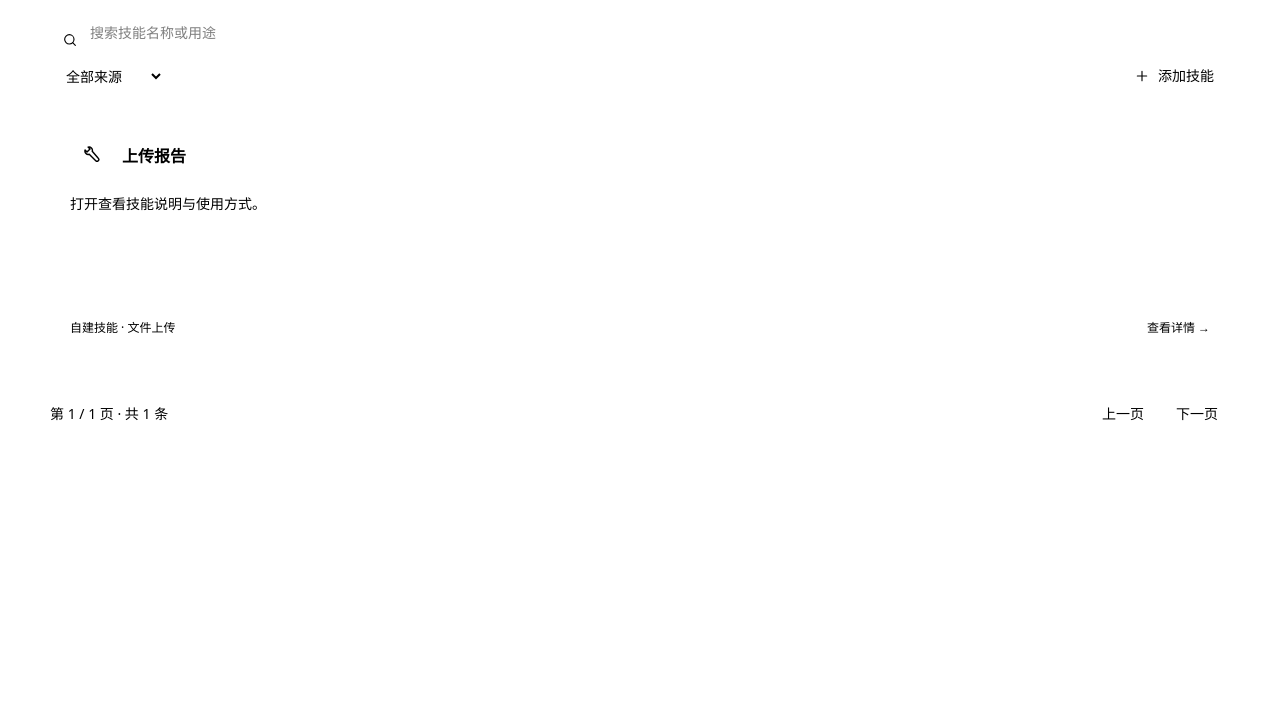
it: catalog import requires confirmation and resets library filters to the new source
Check: the heading "上传报告" is shown, box left=122, top=145, right=186, bottom=167
Select "自建技能" in the dropdown named "筛选技能来源" at (107, 76), box left=50, top=66, right=164, bottom=86
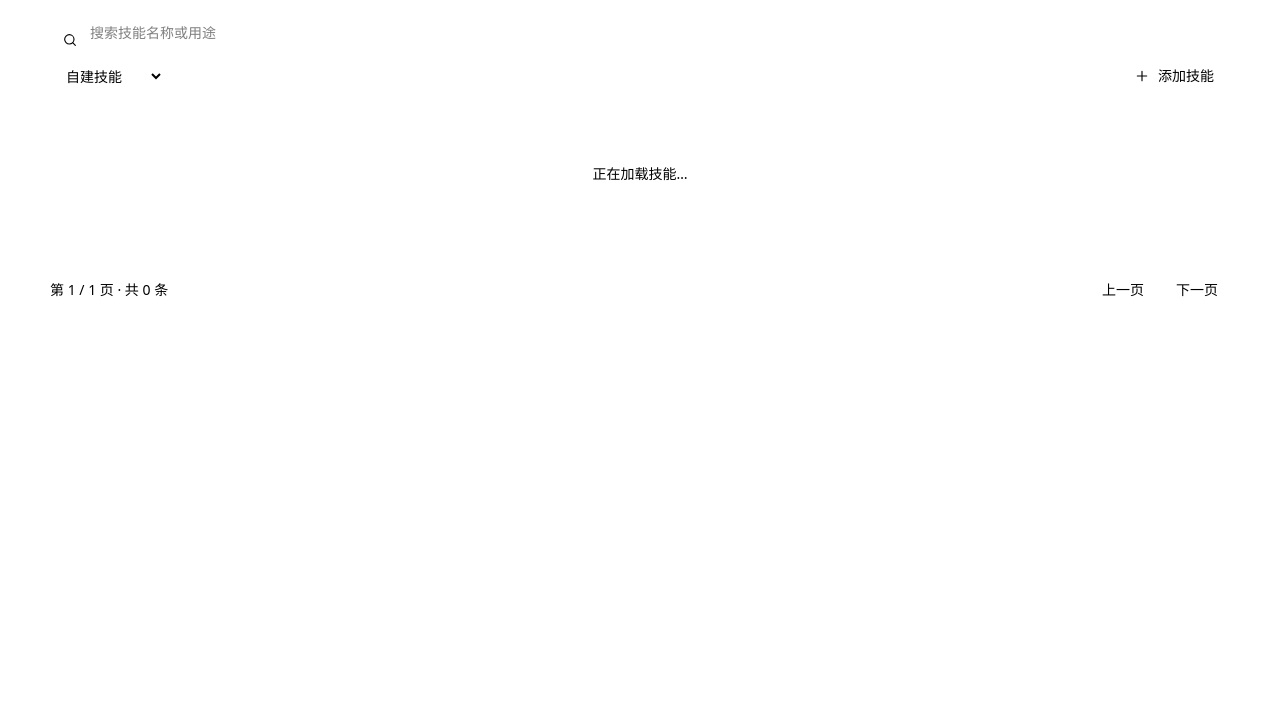
Type "上传报告" into the field named "搜索技能库" at (640, 33), box left=50, top=23, right=1230, bottom=43
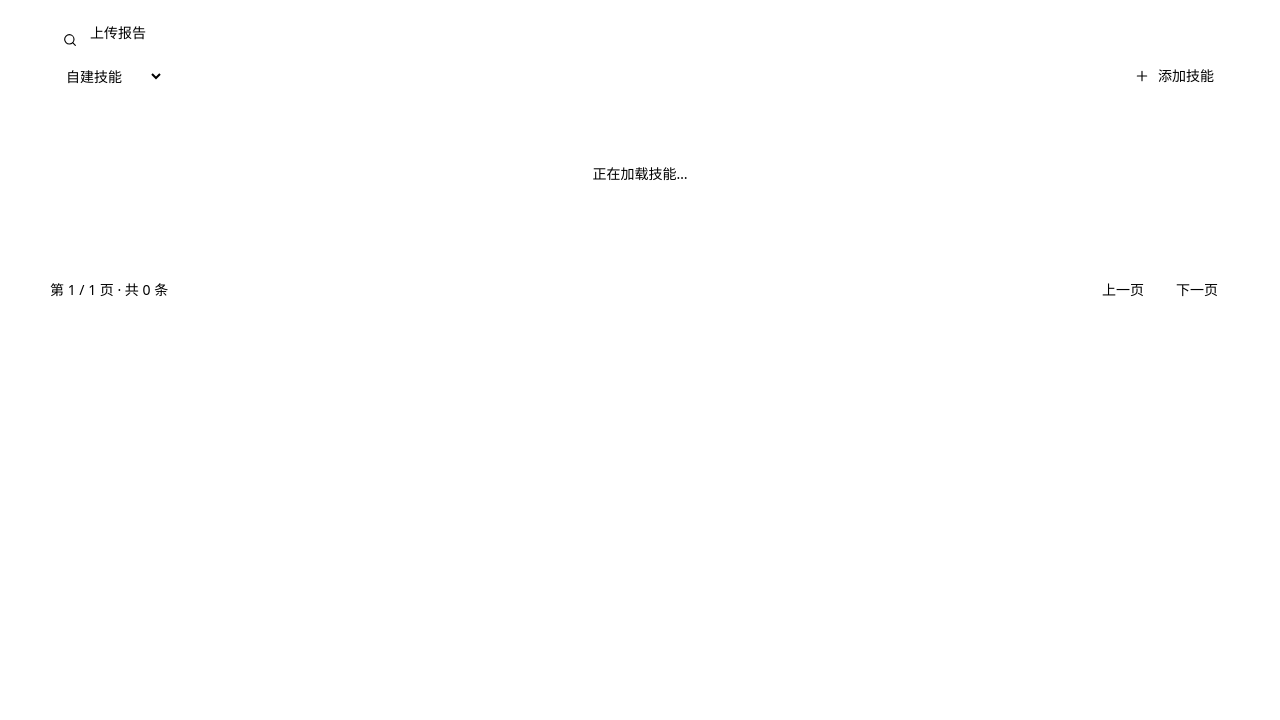
Click the button "添加技能" at (1174, 76), box left=1118, top=56, right=1230, bottom=96
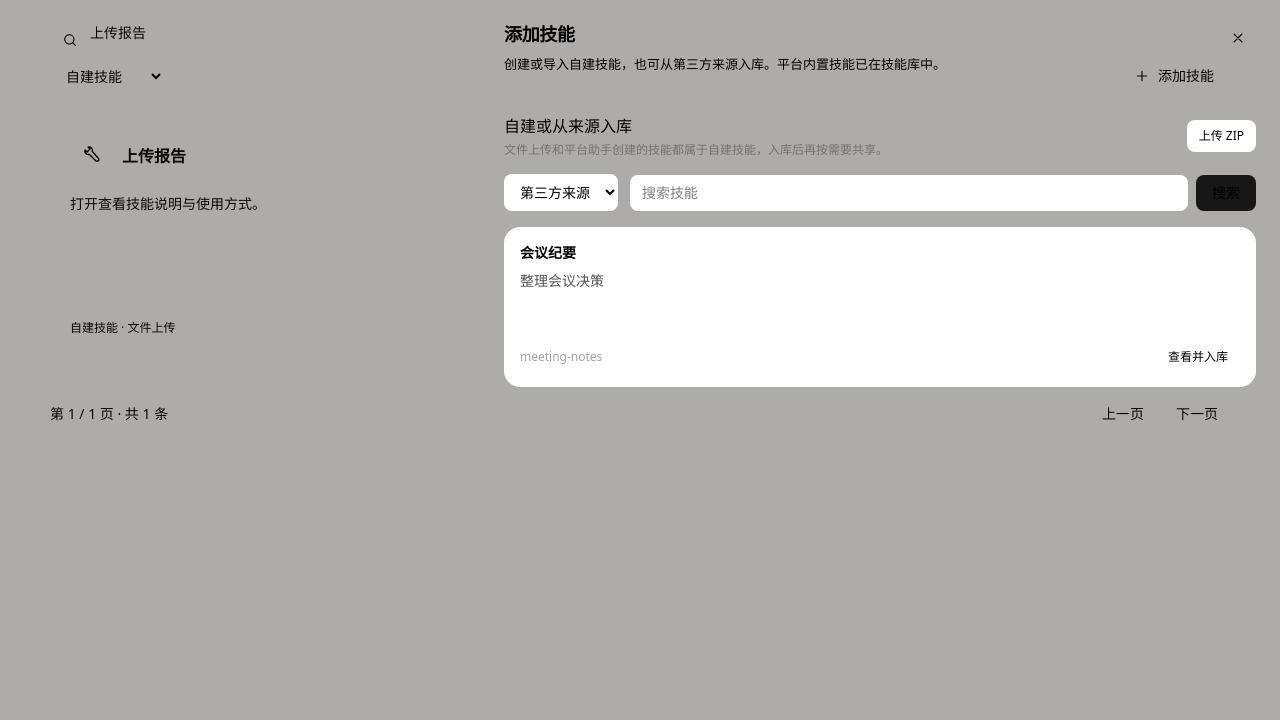
Click the button "查看并入库" at (1198, 357), box left=1156, top=343, right=1240, bottom=371
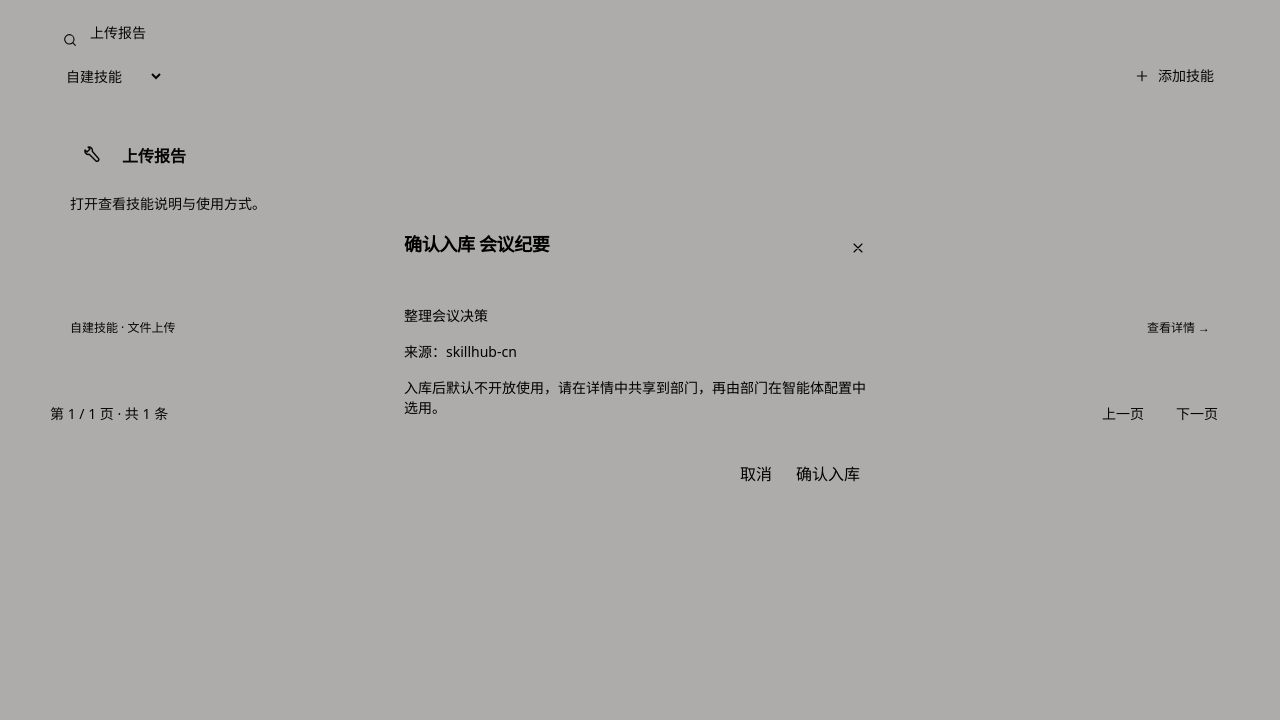
Check: the dialog "确认入库 会议纪要" is shown, box left=380, top=210, right=900, bottom=510
Click the button "确认入库" at (828, 474), box left=780, top=454, right=876, bottom=494
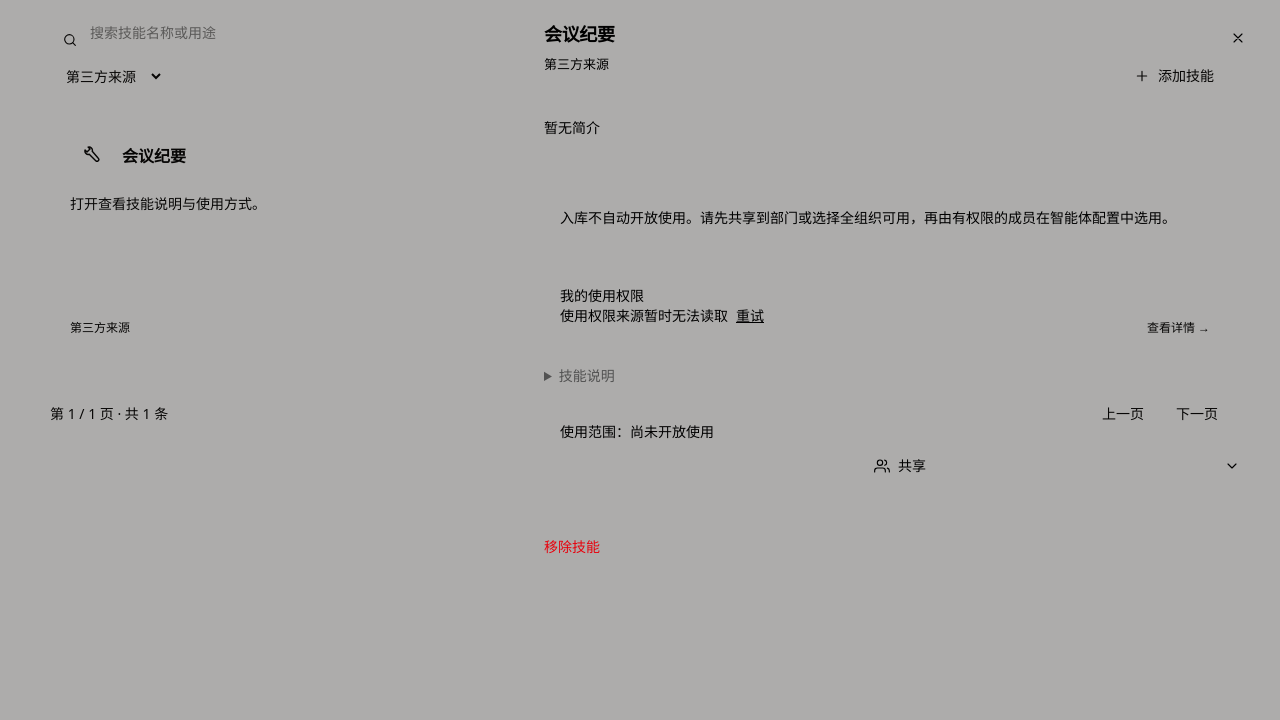
Check: the dialog "会议纪要" is shown, box left=520, top=0, right=1279, bottom=719
Check: the text "入库不自动开放使用。请先共享到部门或选择全组织可用，再由有权限的成员在智能体配置中选用。" is shown, box left=560, top=208, right=1176, bottom=227
Press Escape
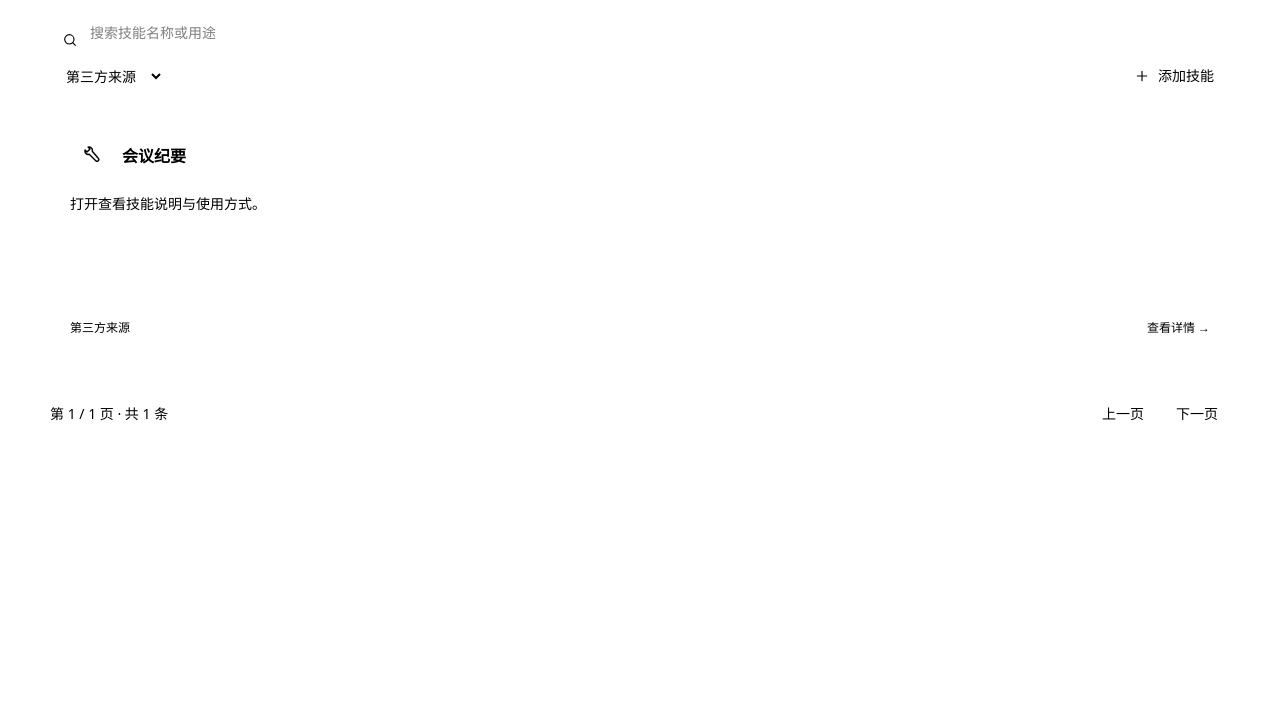
Check: the field named "搜索技能库" is empty, box left=50, top=23, right=1230, bottom=43
Check: the button "会议纪要 打开查看技能说明与使用方式。 第三方来源 查看详情 →" is shown, box left=50, top=116, right=1230, bottom=356
Check: the dialog is gone
